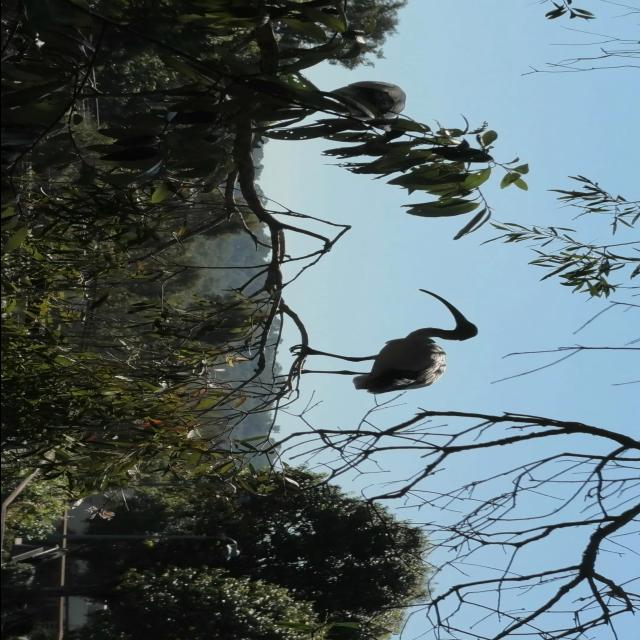Birds-Ibis: (268, 286, 481, 396), (305, 80, 409, 132)
